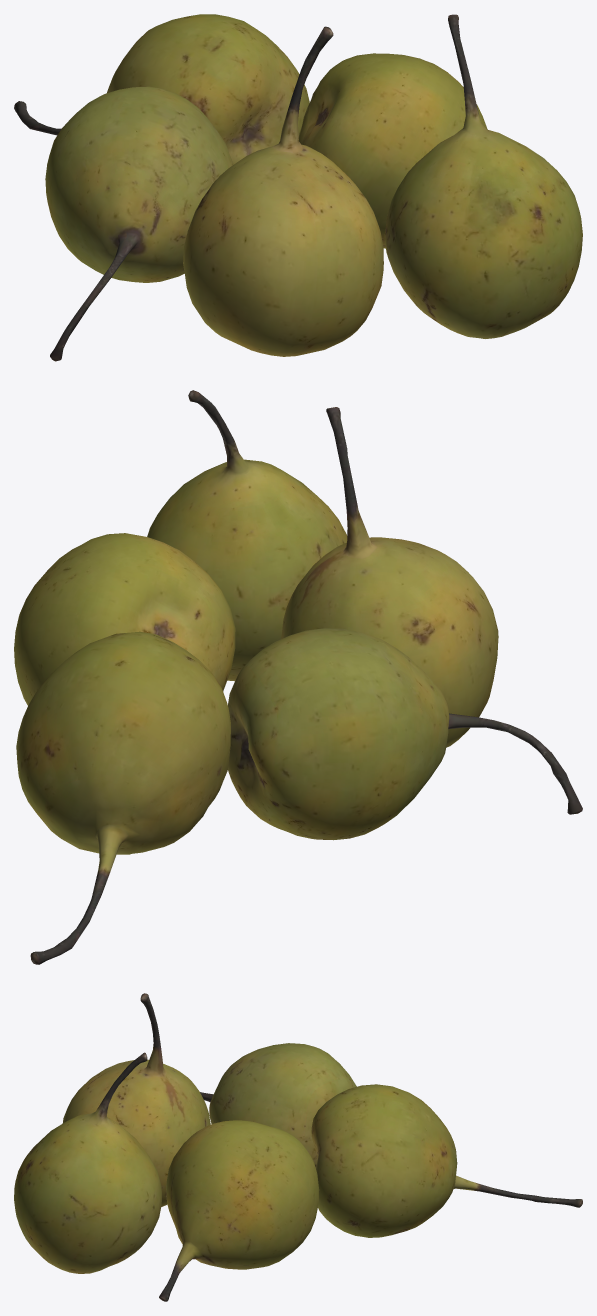
The model's file is food_pears_asian_01.glb.
The picture shows the model from 3 angles, top to bottom: view 1: azimuth 30°, elevation 25°; view 2: azimuth 150°, elevation 25°; view 3: azimuth 270°, elevation 25°; orthographic projection. The views are drawn at different scales.
Visible parts, largest first — view 1: food_pears_asian_01_b; view 2: food_pears_asian_01_b; view 3: food_pears_asian_01_b.
Boxes of the visible parts, x1,y1,x2,y2 form: food_pears_asian_01_b: (14,14,582,361); food_pears_asian_01_b: (14,390,582,964); food_pears_asian_01_b: (14,993,582,1301).
Size of the model in its own units: 0.1261 by 0.0711 by 0.1669.
1 material, 1 textured.
